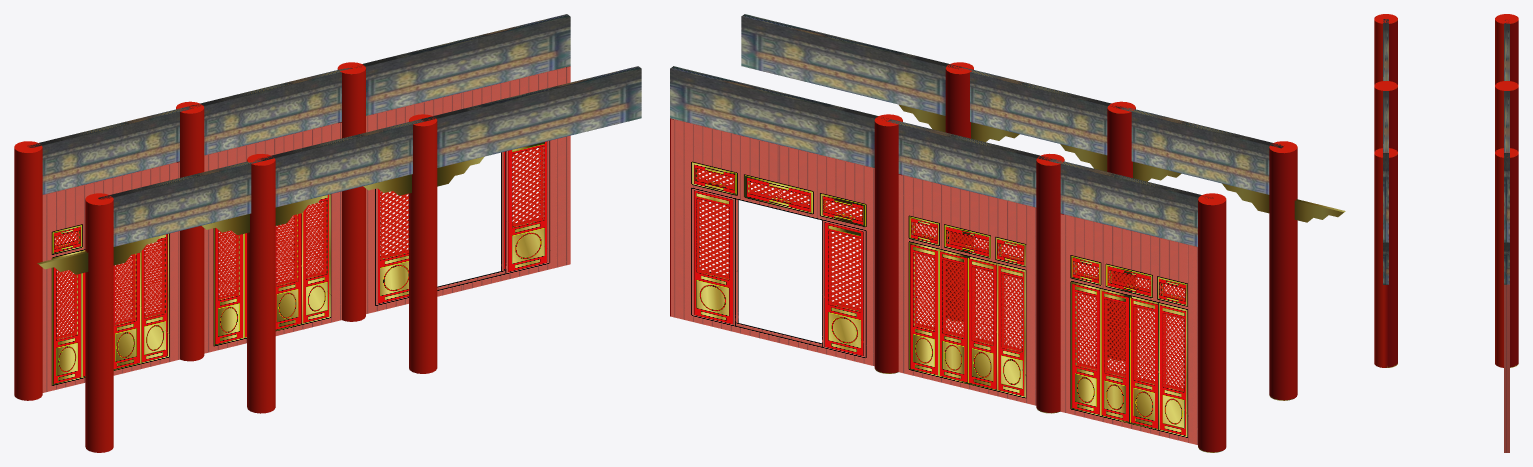
The model's file is colwallwalldoor.dae.
The picture shows the model from 3 angles, left to right: view 1: azimuth 30°, elevation 25°; view 2: azimuth 150°, elevation 25°; view 3: azimuth 270°, elevation 25°; orthographic projection. The views are drawn at different scales.
Parts seen in each view (by area): view 1: MainNode; view 2: MainNode; view 3: MainNode.
Part boxes in pixels (<box>): MainNode: <box>14,14,641,452</box>; MainNode: <box>670,14,1345,452</box>; MainNode: <box>1374,14,1518,452</box>.
Bounding box in the file's own units: 12.21 × 4.8 × 2.99.
Materials: 1 (1 with a texture image).
